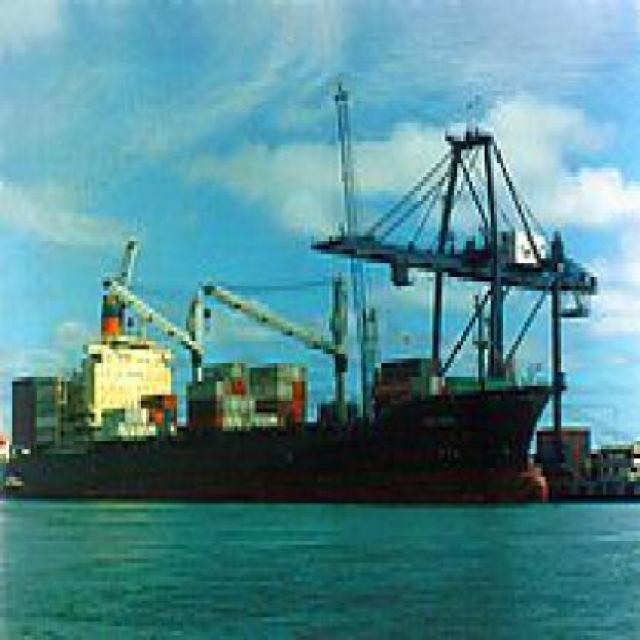container: (6, 305, 559, 505)
